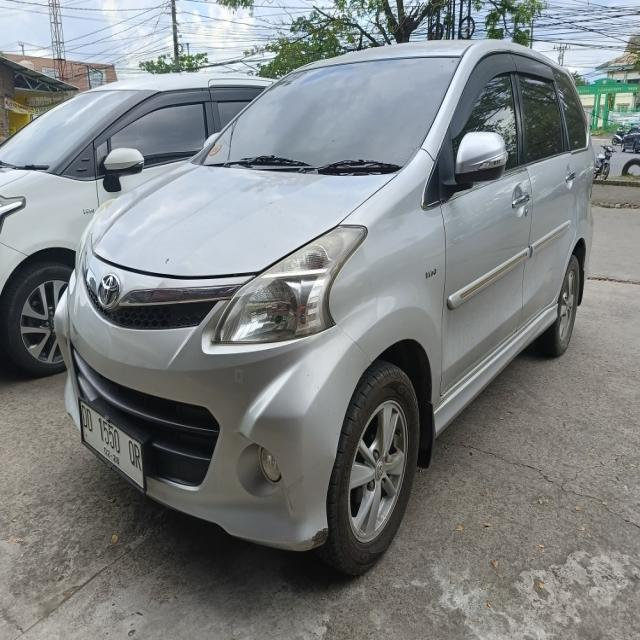plates: (78, 401, 147, 488)
